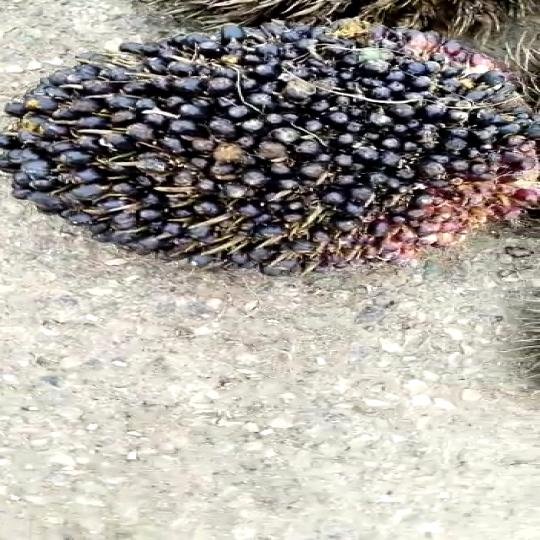mentah: (0, 0, 540, 280)
